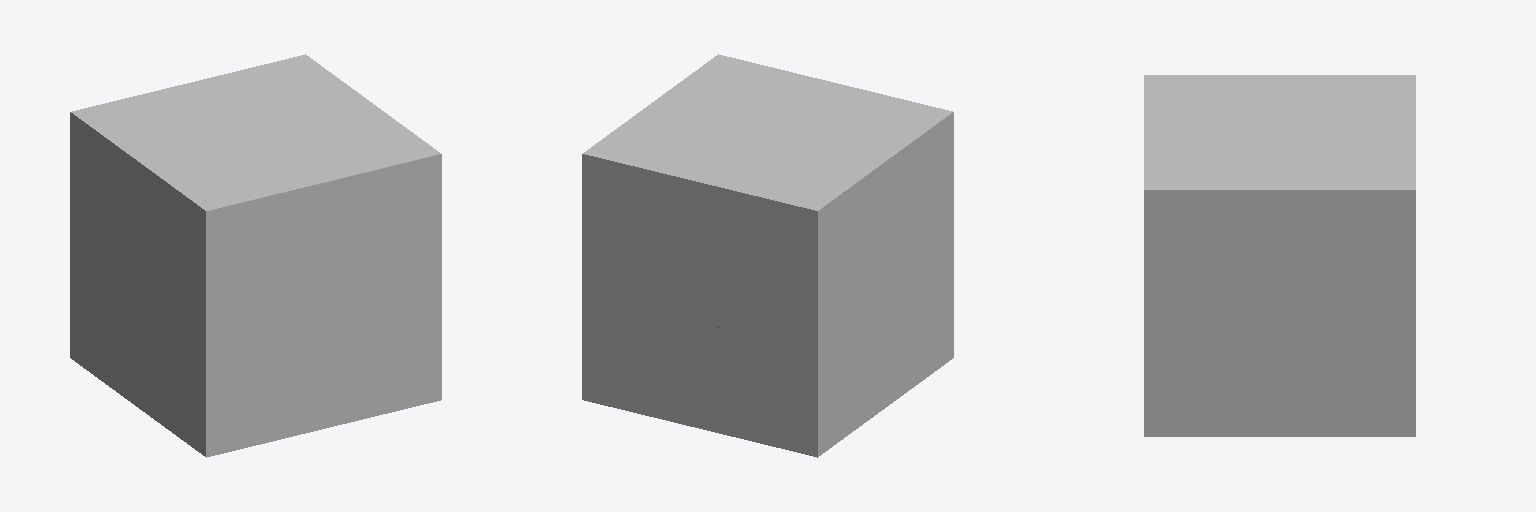
The picture shows the model from 3 angles: view 1: azimuth 30°, elevation 25°; view 2: azimuth 150°, elevation 25°; view 3: azimuth 270°, elevation 25°; orthographic projection.
Parts seen in each view (by area): view 1: BOX_Cube.001; view 2: BOX_Cube.001; view 3: BOX_Cube.001.
Boxes of the visible parts, box(x1,y1,x2,y2) form: BOX_Cube.001: box(70, 54, 441, 457); BOX_Cube.001: box(582, 54, 953, 457); BOX_Cube.001: box(1144, 75, 1415, 436).
Bounding box in the file's own units: 2 × 2 × 2.